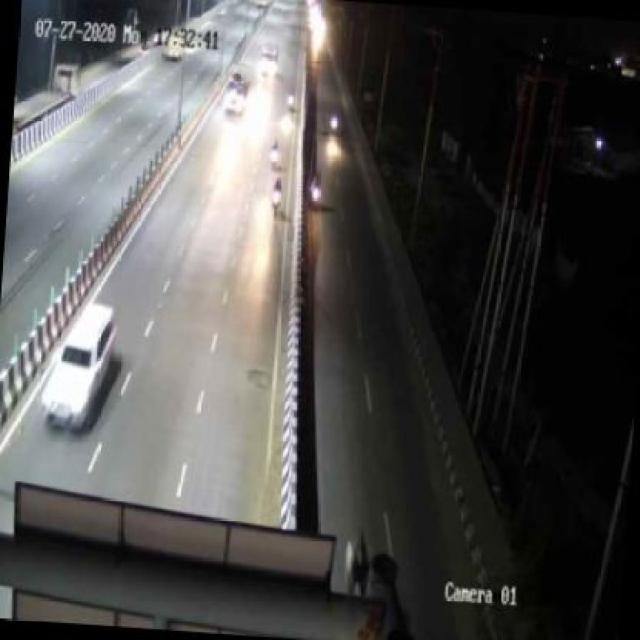car: (40, 297, 118, 431)
